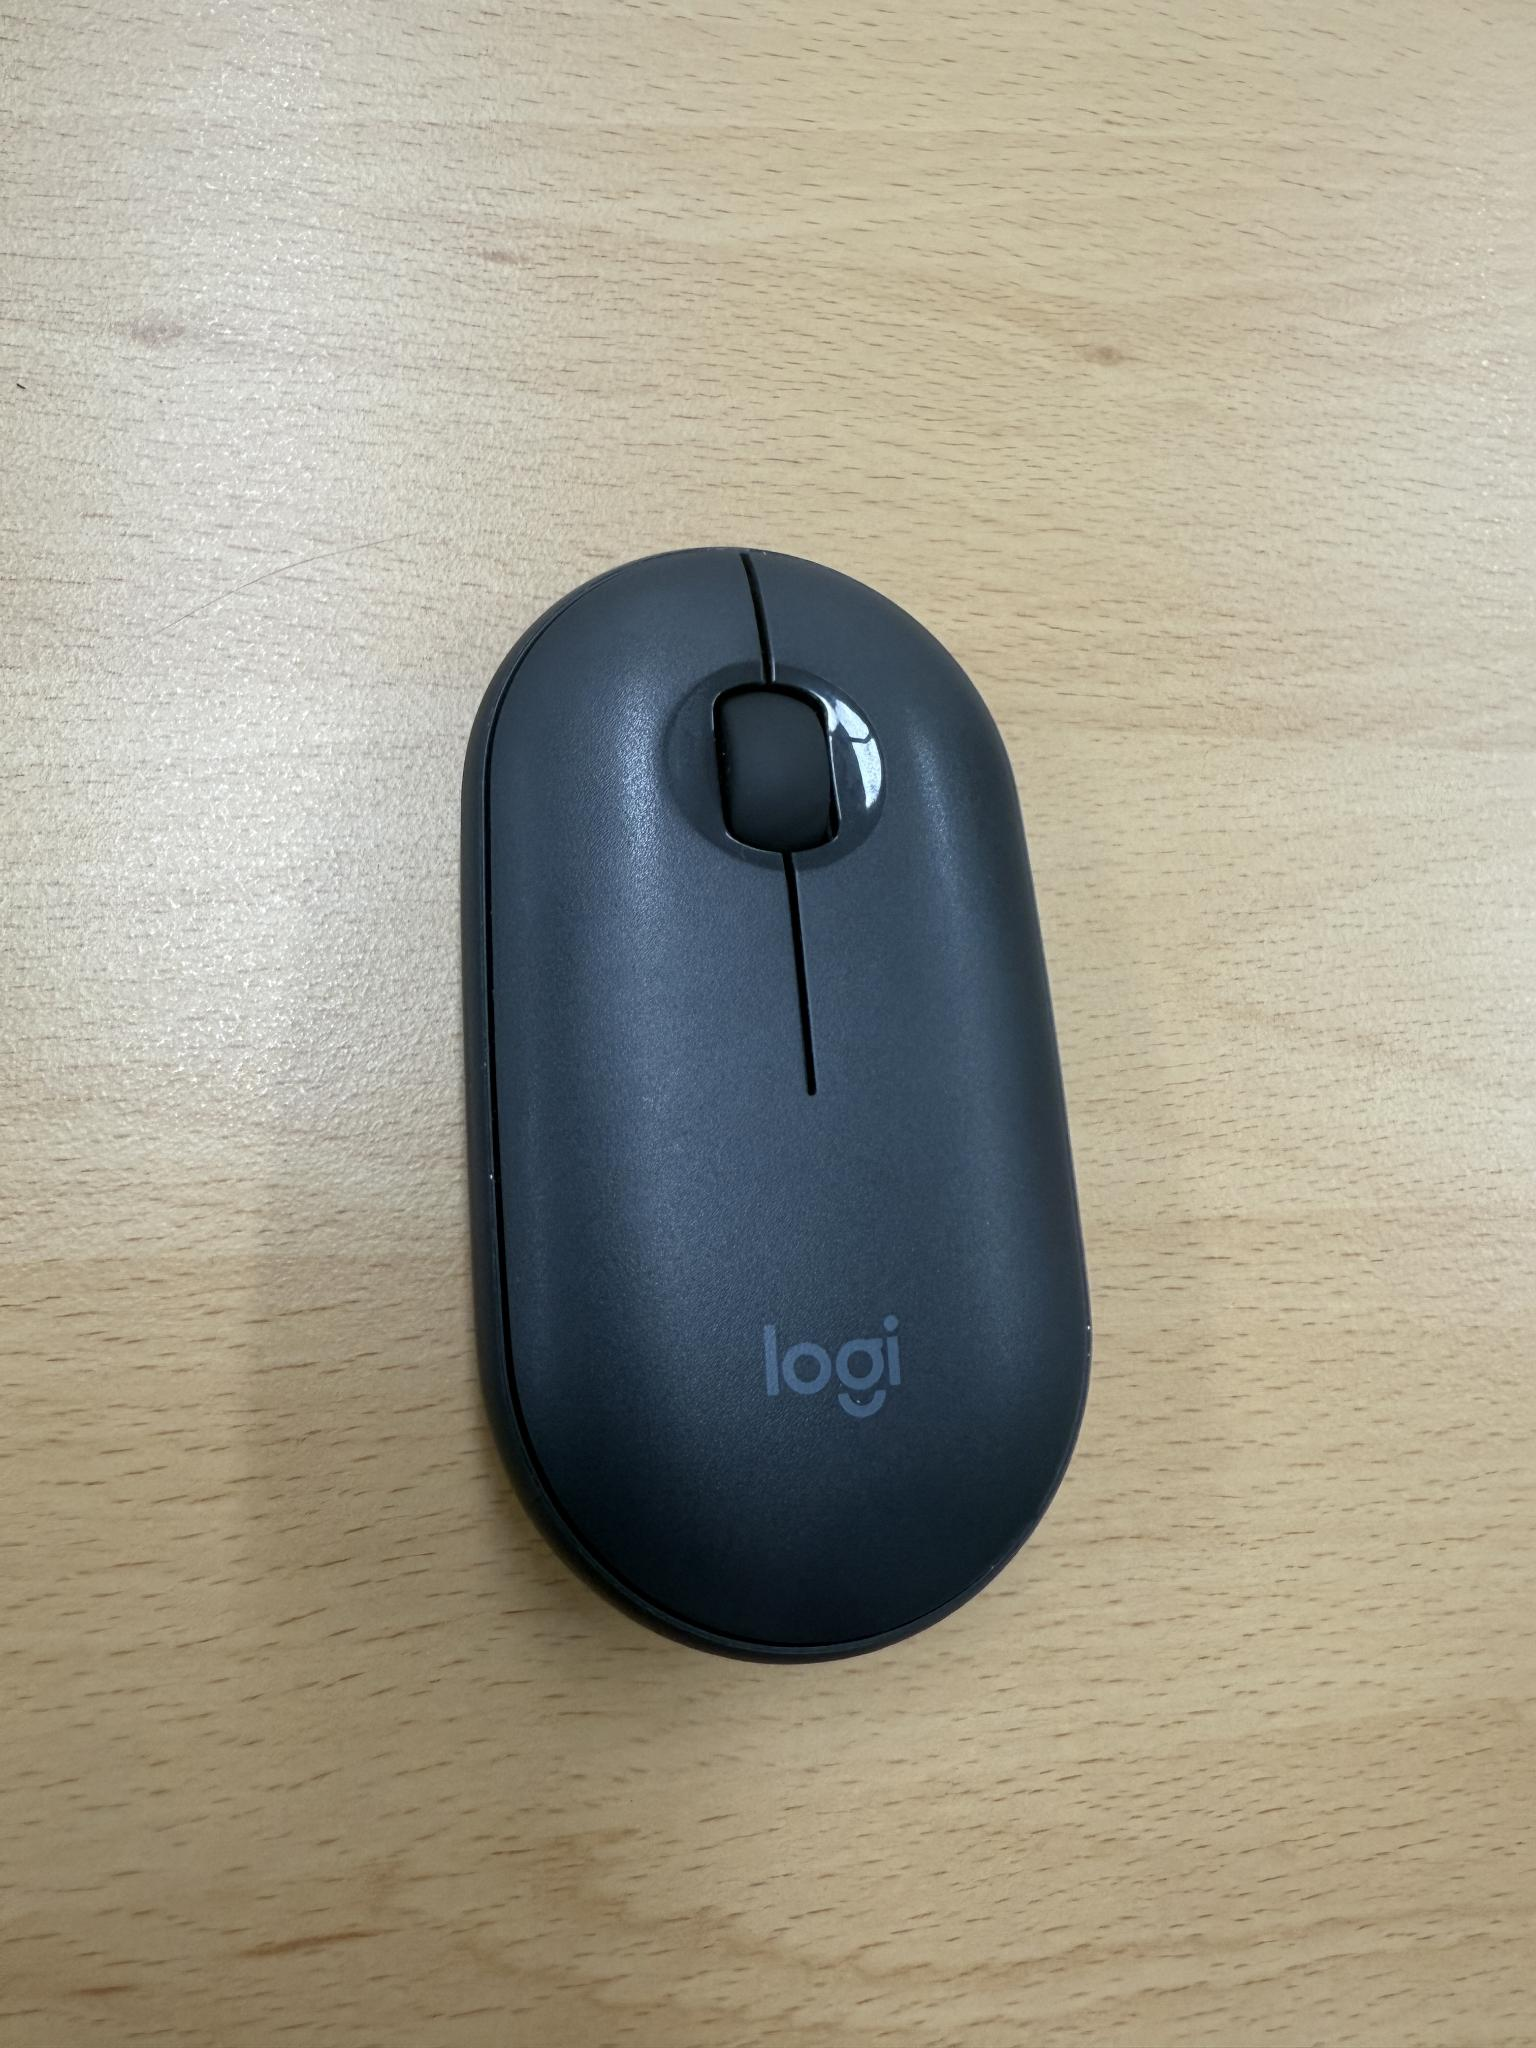front: (450, 534, 1097, 1664)
